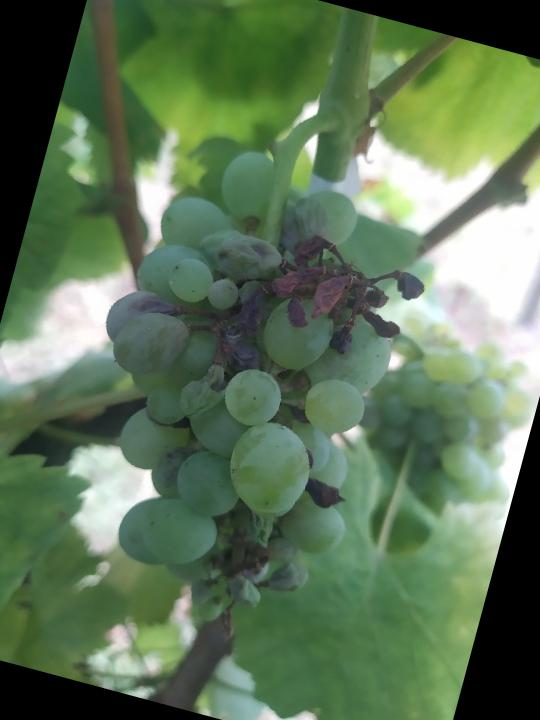grape: (31, 122, 453, 672)
